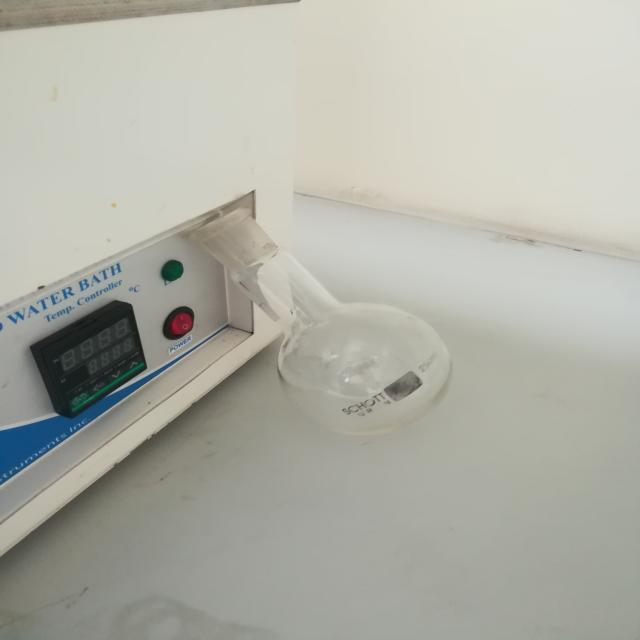Round_Bottom_Flask_Borosilicate_Glass_1_Neck: (164, 179, 478, 466)
